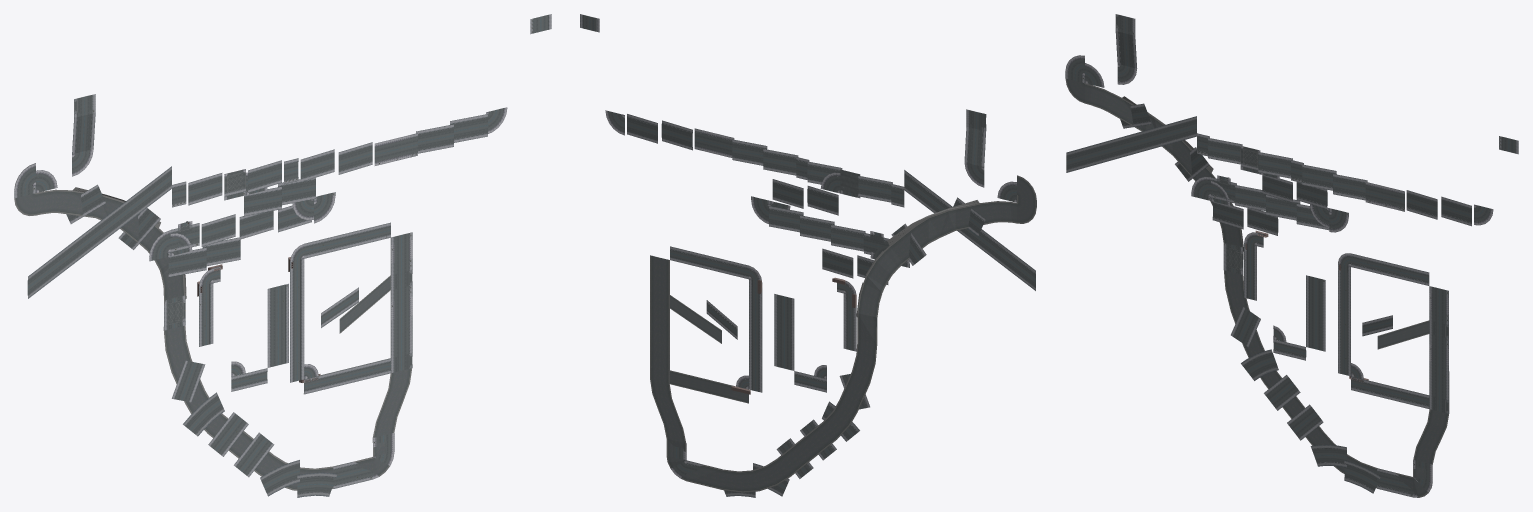
The model's file is landne_landne__part_06.obj.
3 views of the same model, side by side, from view 1: azimuth 30°, elevation 25°; view 2: azimuth 150°, elevation 25°; view 3: azimuth 330°, elevation 25° (orthographic). The views are drawn at different scales.
Parts seen in each view (by area): view 1: landne_landne__part_06; view 2: landne_landne__part_06; view 3: landne_landne__part_06.
Part boxes in pixels (<box>): landne_landne__part_06: <box>14,14,551,497</box>; landne_landne__part_06: <box>580,14,1036,497</box>; landne_landne__part_06: <box>1065,14,1518,497</box>.
Size of the model in its own units: 720 by 629 by 79.42.
96 materials, 96 textured.
